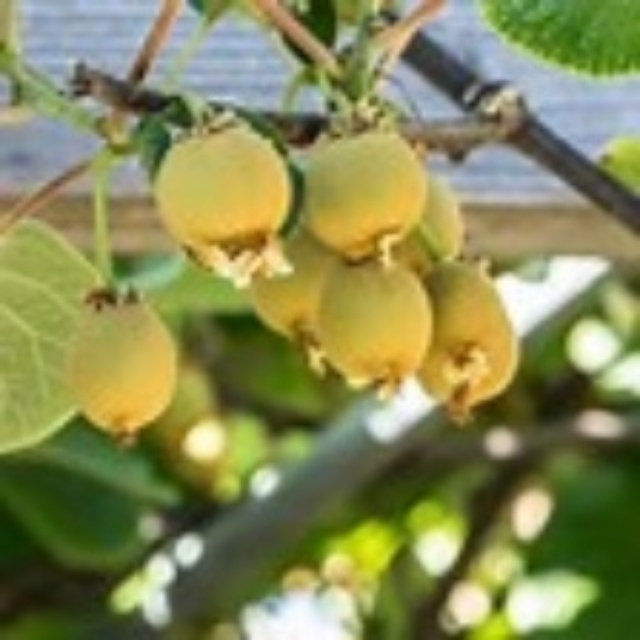kiwi: (405, 255, 521, 429), (153, 125, 288, 270), (65, 293, 177, 433), (221, 236, 356, 349), (305, 135, 425, 260), (325, 267, 434, 399)
